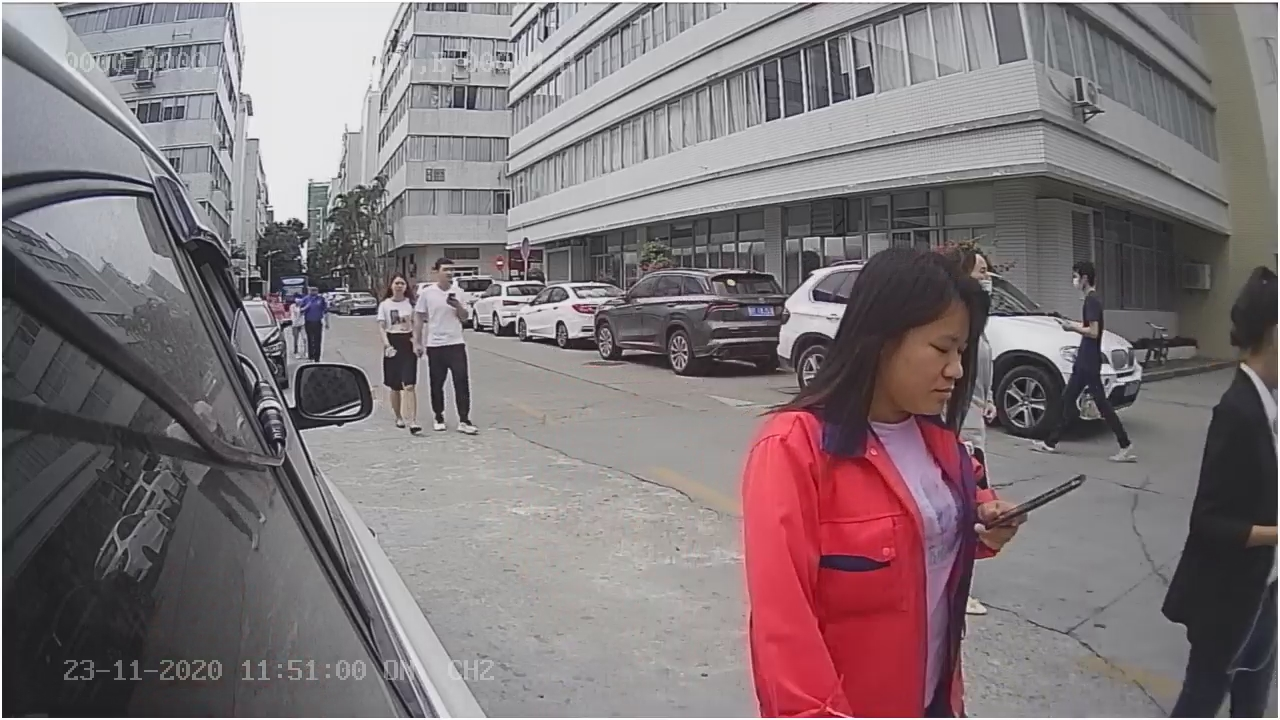person: (1032, 255, 1135, 462), (374, 273, 430, 432)
